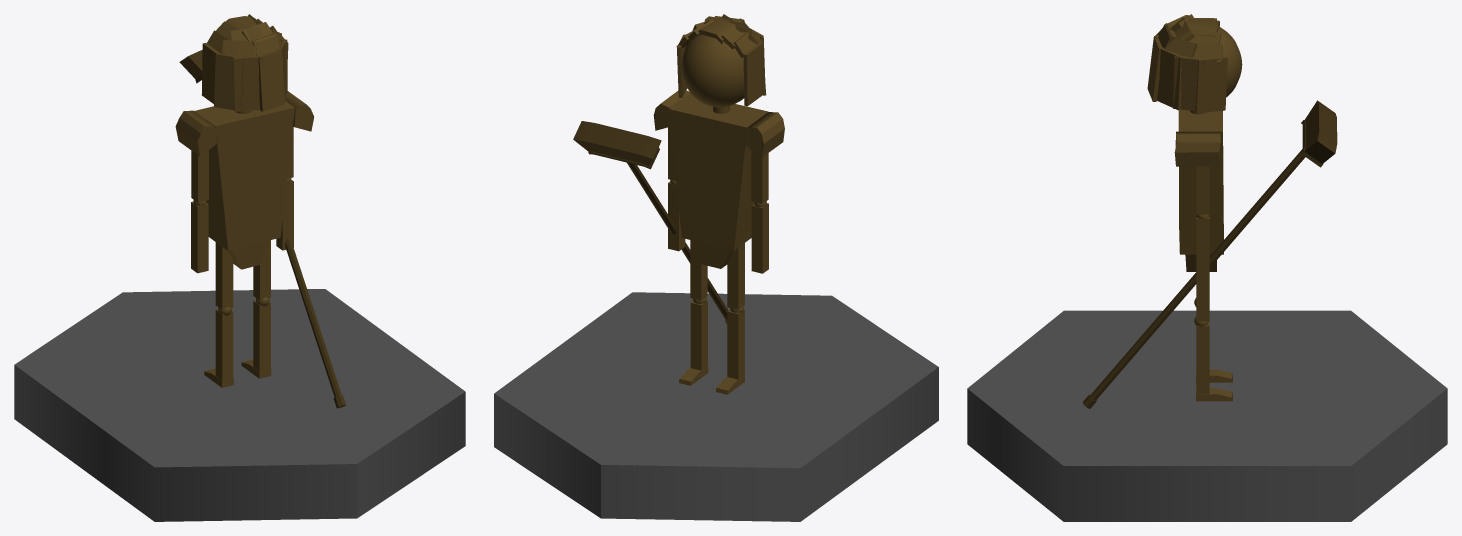
Rendered from StatuePrisme.fbx.
The picture shows the model from 3 angles, left to right: view 1: azimuth 30°, elevation 25°; view 2: azimuth 150°, elevation 25°; view 3: azimuth 270°, elevation 25°; orthographic projection. The views are drawn at different scales.
Visible parts, largest first — view 1: pCube1, maman:pCube34, Balais:pCylinder3; view 2: pCube1, maman:pCube34, Balais:pCylinder3; view 3: pCube1, maman:pCube34, Balais:pCylinder3.
Boxes of the visible parts, box(x1,y1,x2,y2) form: pCube1: box(14, 289, 465, 521); maman:pCube34: box(175, 14, 313, 387); Balais:pCylinder3: box(179, 50, 345, 408); pCube1: box(494, 292, 938, 521); maman:pCube34: box(653, 14, 784, 394); Balais:pCylinder3: box(573, 121, 728, 324); pCube1: box(967, 310, 1447, 521); maman:pCube34: box(1147, 14, 1242, 401); Balais:pCylinder3: box(1083, 100, 1337, 408).
Size of the model in its own units: 2.69 by 3.42 by 3.51.
